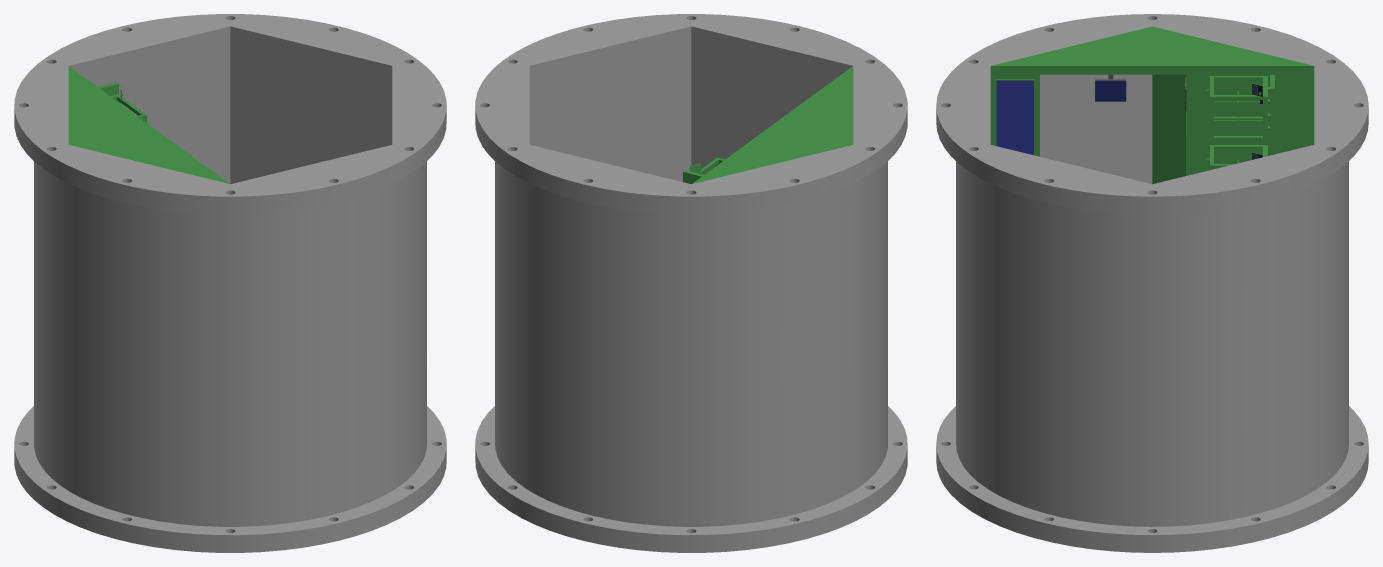
File: Base_Workbench+Fabricator v31.fbx
The picture shows the model from 3 angles, left to right: view 1: azimuth 30°, elevation 25°; view 2: azimuth 150°, elevation 25°; view 3: azimuth 270°, elevation 25°; orthographic projection.
Parts seen in each view (by area): view 1: Body1, Body2; view 2: Body1, Body2; view 3: Body1, Body2.
Boxes of the visible parts, x1,y1,x2,y2 form: Body1: [14, 14, 446, 552]; Body2: [68, 66, 229, 183]; Body1: [475, 14, 907, 552]; Body2: [683, 66, 853, 183]; Body1: [936, 14, 1368, 552]; Body2: [990, 26, 1314, 184].
Bounding box in the file's own units: 4.4 × 4 × 4.4.
